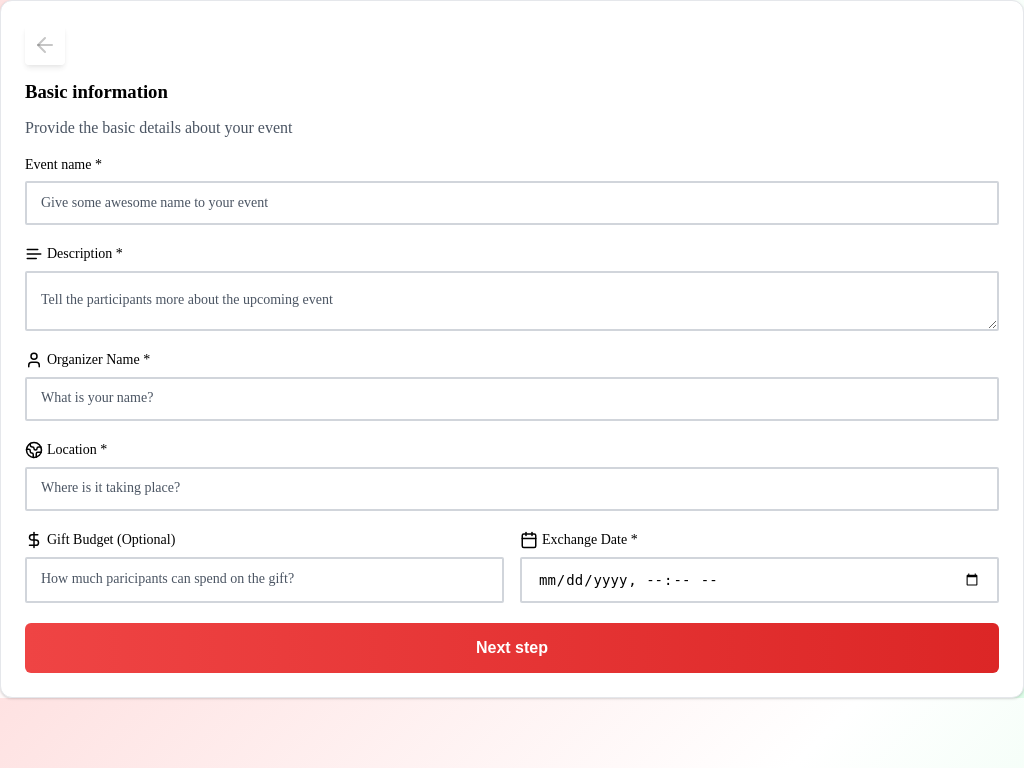
Test: EventCreateForm › keeps entered data when going back to the previous step
This screenshot has width=1024, height=768.
Type "Office Secret Santa" into the field labelled "Event name *" at (512, 203), box [25,181,999,225]
Type "Gift exchange after the Christmas lunch" into the text box labelled "Description *" at (512, 301), box [25,271,999,331]
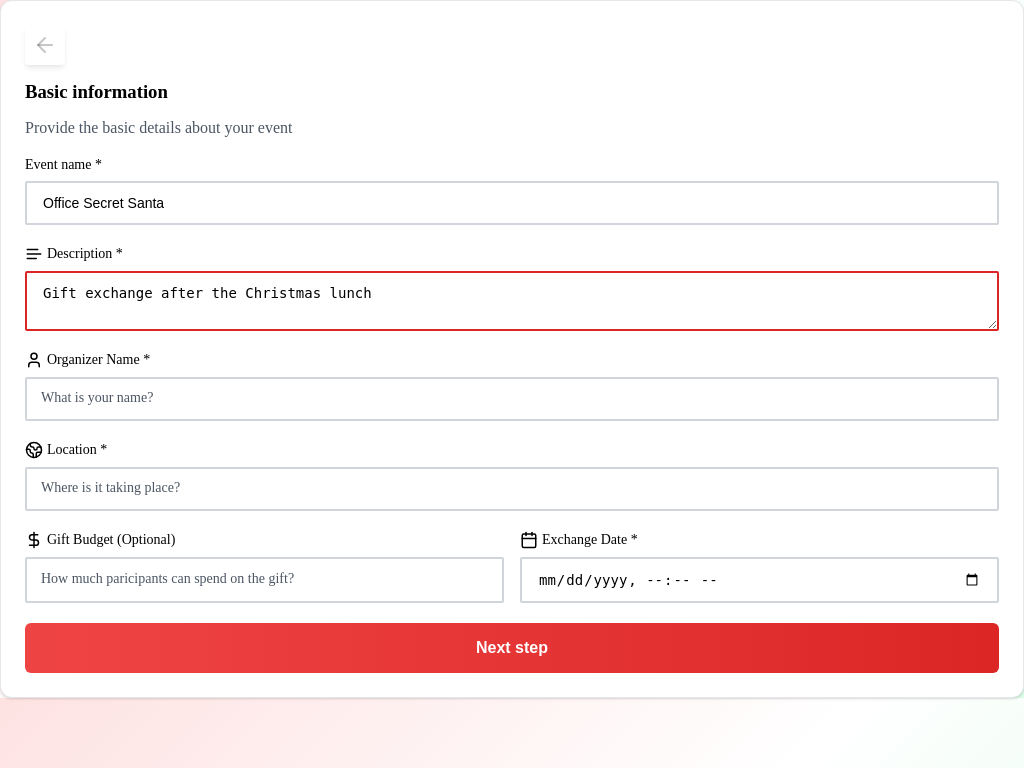
Type "Anna" into the field labelled "Organizer Name *" at (512, 399), box [25,377,999,421]
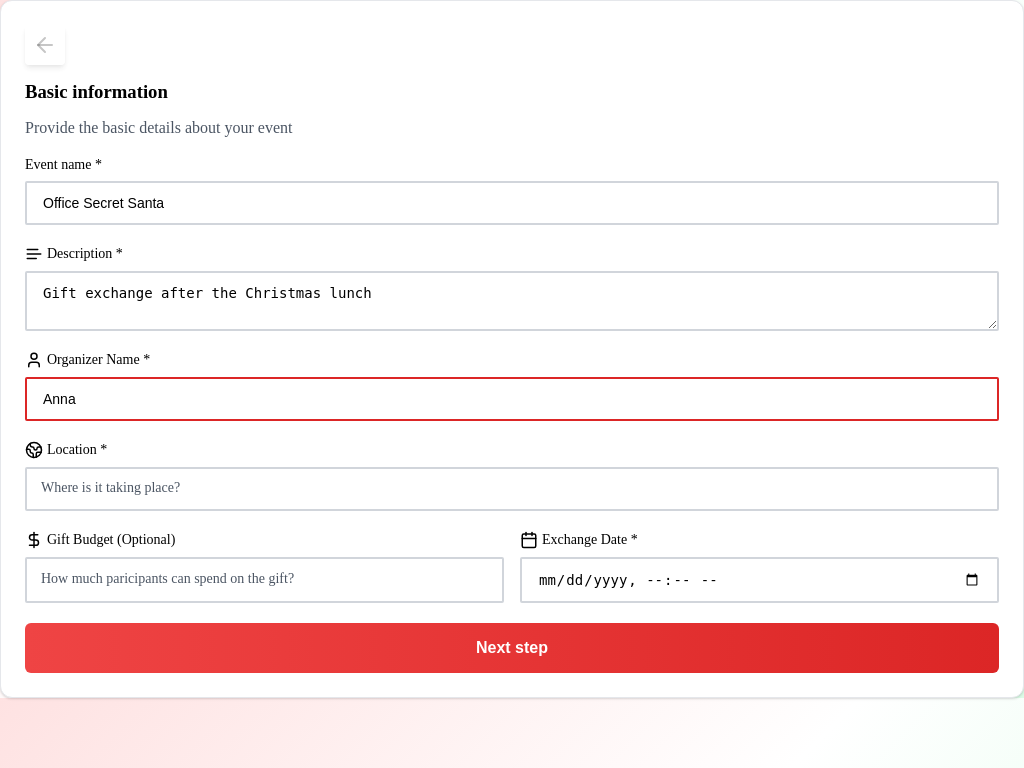
Type "Office kitchen" into the field labelled "Location *" at (512, 489), box [25,467,999,511]
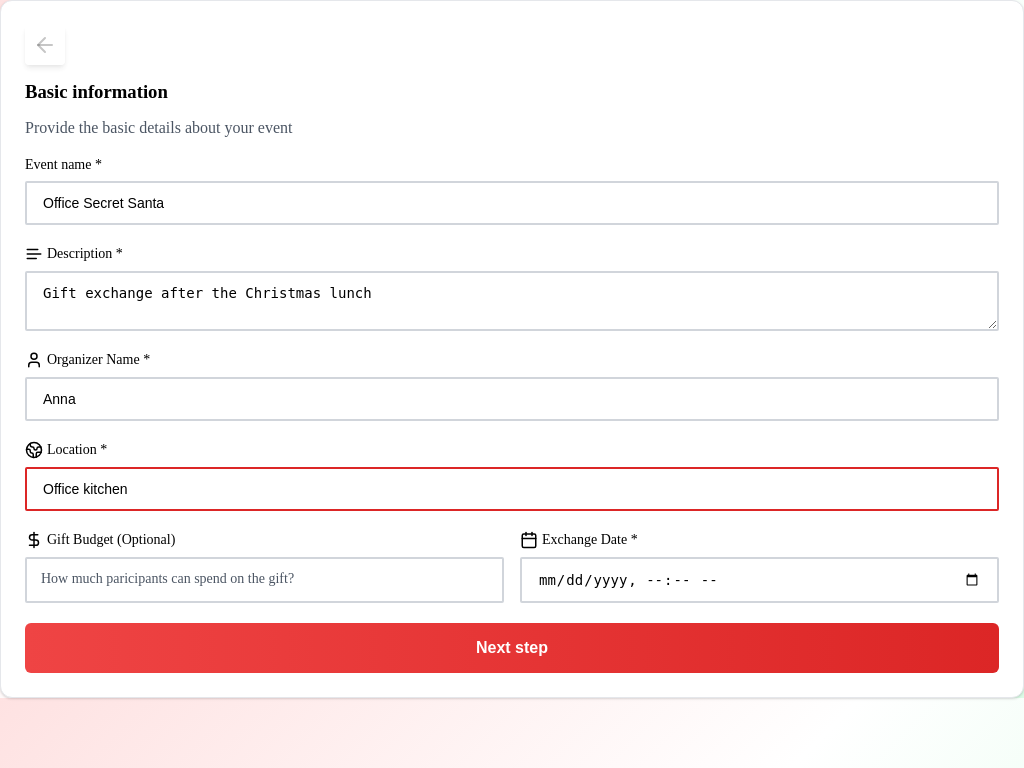
Type "50" into the number field labelled "Gift Budget (Optional)" at (264, 580), box [25,557,504,603]
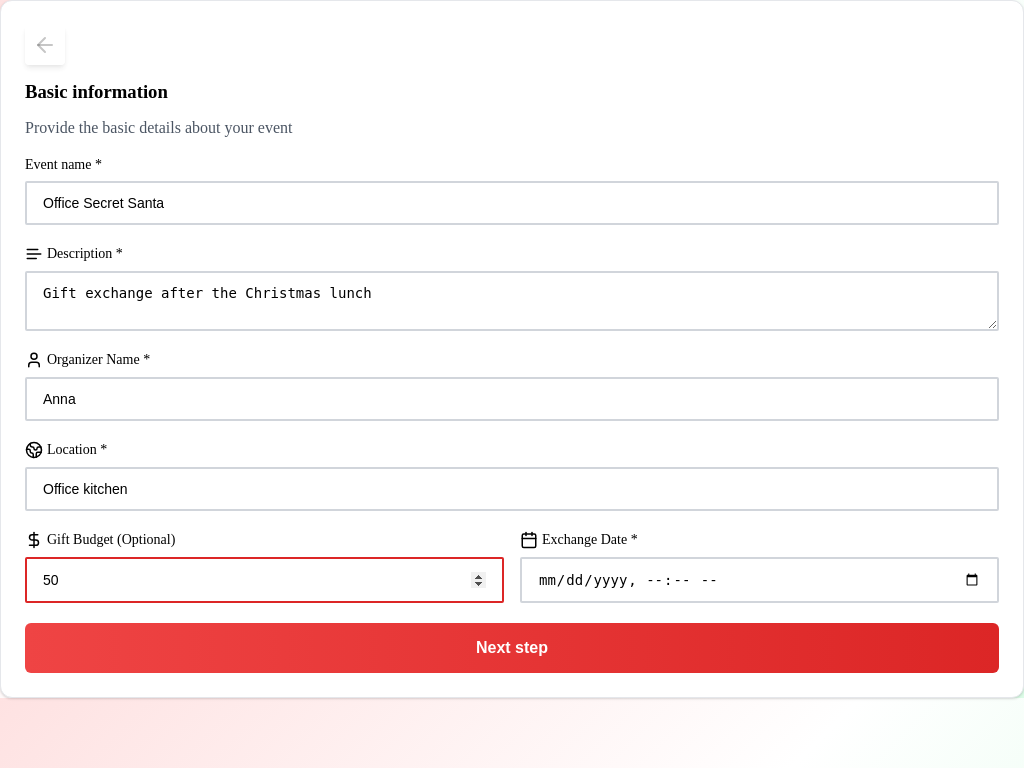
Type "2026-12-20T18:00" into the field labelled "Exchange Date *" at (760, 580), box [520,557,999,603]
Click the button "Next step" at (512, 648), box [25,623,999,673]
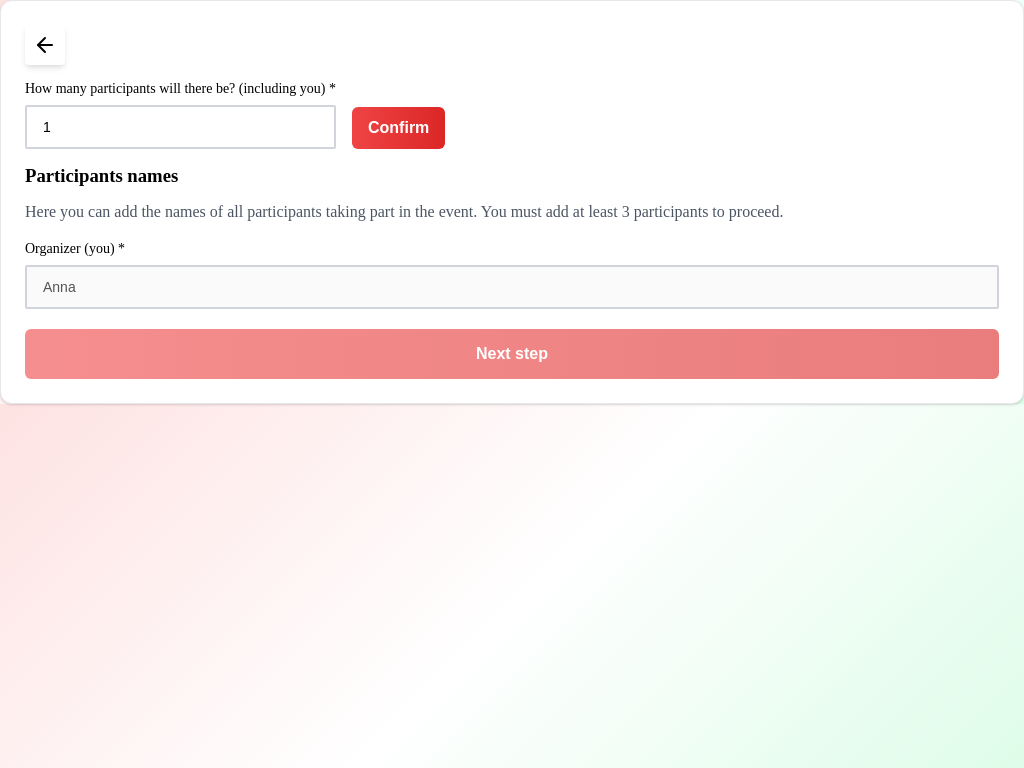
Click the 1st button at (45, 45), box [25,25,65,65]
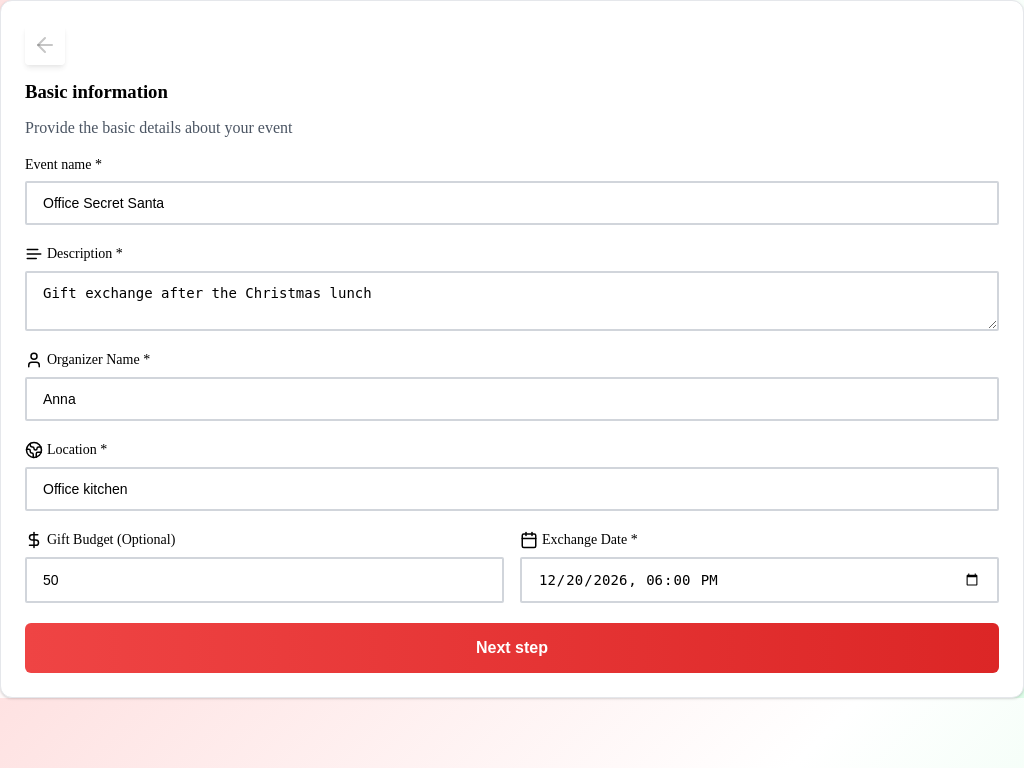
Result: the field labelled "Event name *" holds "Office Secret Santa" at [25,181,999,225]
Result: the number field labelled "Gift Budget (Optional)" holds "50" at [25,557,504,603]
